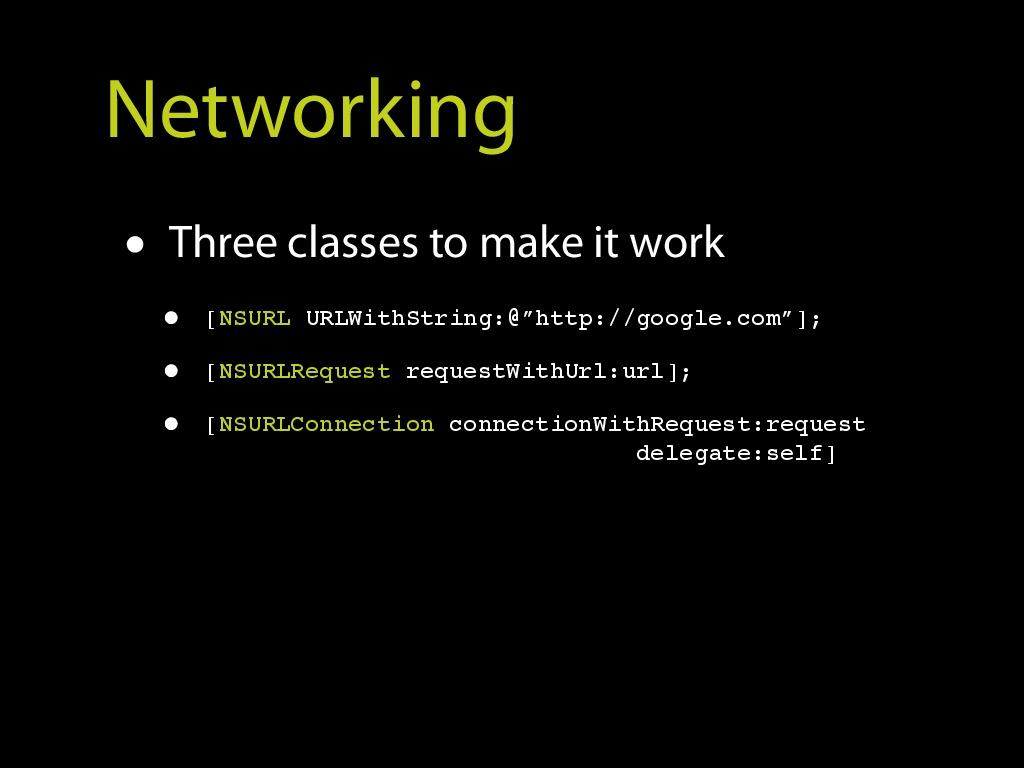paragraph: (108, 196, 906, 483)
title: (98, 59, 543, 166)
